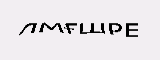Е: (124, 20, 143, 40)
Л: (15, 20, 38, 36)
М: (38, 21, 64, 37)
Р: (107, 16, 123, 40)
Ш: (79, 19, 107, 37)
Ғ: (64, 20, 79, 39)
